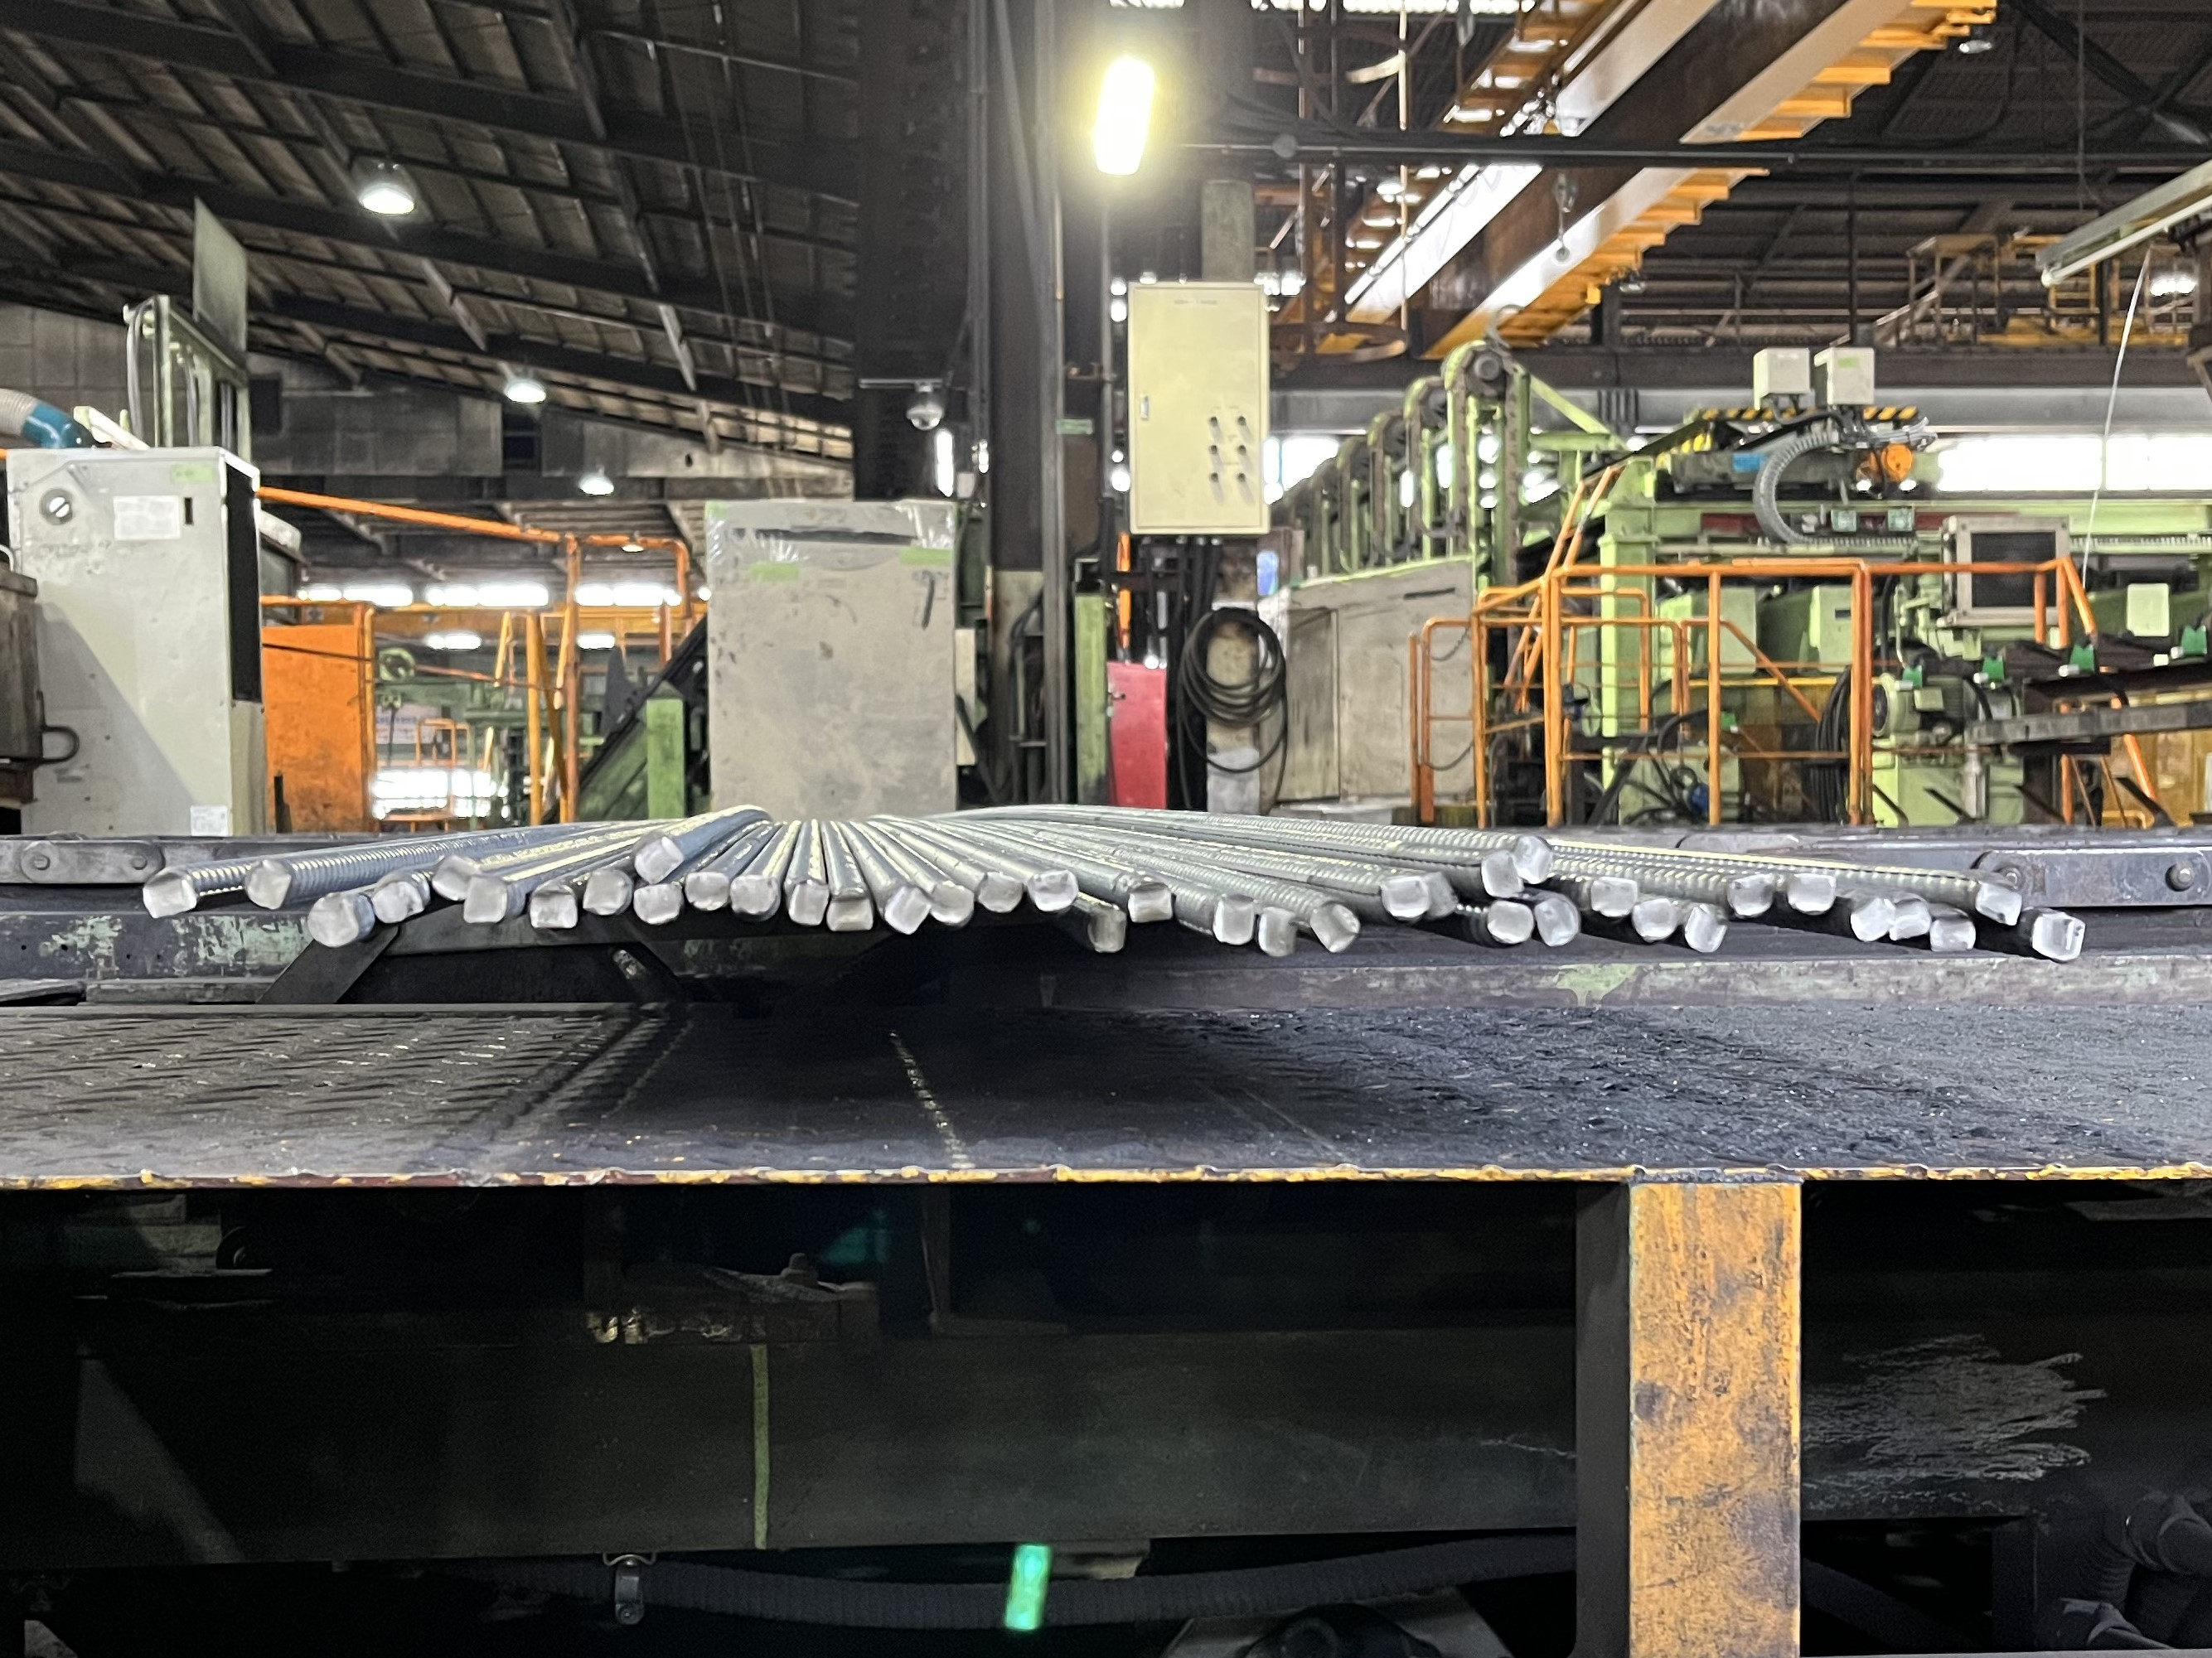rod: (307, 892, 364, 951), (1306, 900, 1362, 956), (242, 857, 294, 913), (139, 871, 199, 920), (881, 883, 934, 937), (428, 855, 481, 906), (526, 881, 580, 930), (632, 834, 686, 883), (1533, 895, 1581, 949), (1681, 900, 1730, 954), (1784, 869, 1838, 918), (369, 878, 425, 925), (582, 867, 632, 918), (927, 878, 977, 928), (1378, 873, 1430, 921), (1510, 832, 1557, 886), (1026, 869, 1082, 914), (1211, 892, 1256, 947), (824, 885, 874, 933), (2029, 907, 2074, 961), (1848, 895, 1897, 944), (1588, 873, 1639, 920), (1629, 895, 1679, 942), (1726, 873, 1777, 920), (1973, 880, 2024, 927), (463, 874, 509, 927), (1256, 904, 1299, 958), (730, 871, 779, 918), (1083, 906, 1130, 954), (1479, 850, 1526, 899), (1486, 899, 1534, 946), (1125, 880, 1176, 925), (631, 883, 685, 925), (977, 869, 1024, 916), (1928, 913, 1979, 954), (1888, 895, 1933, 940), (787, 878, 829, 927), (1420, 871, 1460, 920), (686, 871, 732, 913)
